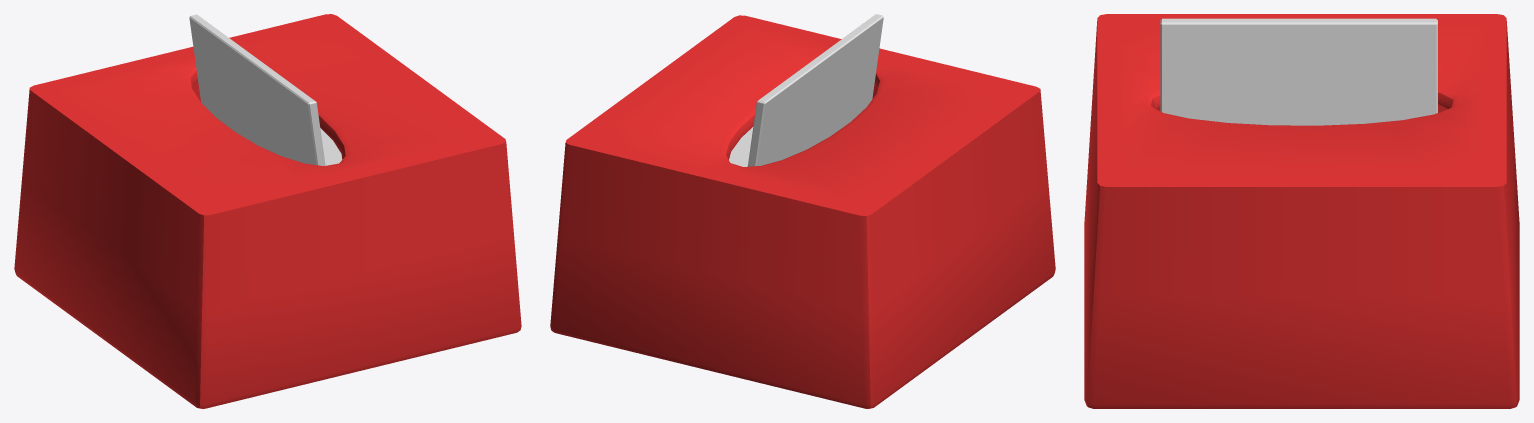
The model's file is tissue_box.fbx.
3 views of the same model, side by side, from view 1: azimuth 30°, elevation 25°; view 2: azimuth 150°, elevation 25°; view 3: azimuth 270°, elevation 25° (orthographic). The views are drawn at different scales.
Visible parts, largest first — view 1: Hop dung giay; view 2: Hop dung giay; view 3: Hop dung giay.
Boxes of the visible parts, left/top/right/bottom form: Hop dung giay: left=14, top=14, right=521, bottom=408; Hop dung giay: left=550, top=14, right=1055, bottom=408; Hop dung giay: left=1084, top=14, right=1519, bottom=408.
Size of the model in its own units: 22.94 by 16.91 by 22.94.
